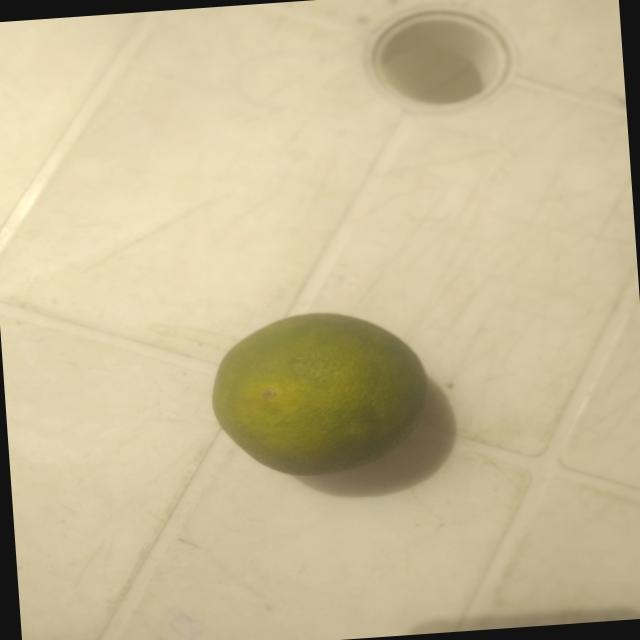agrume: (198, 299, 437, 485)
